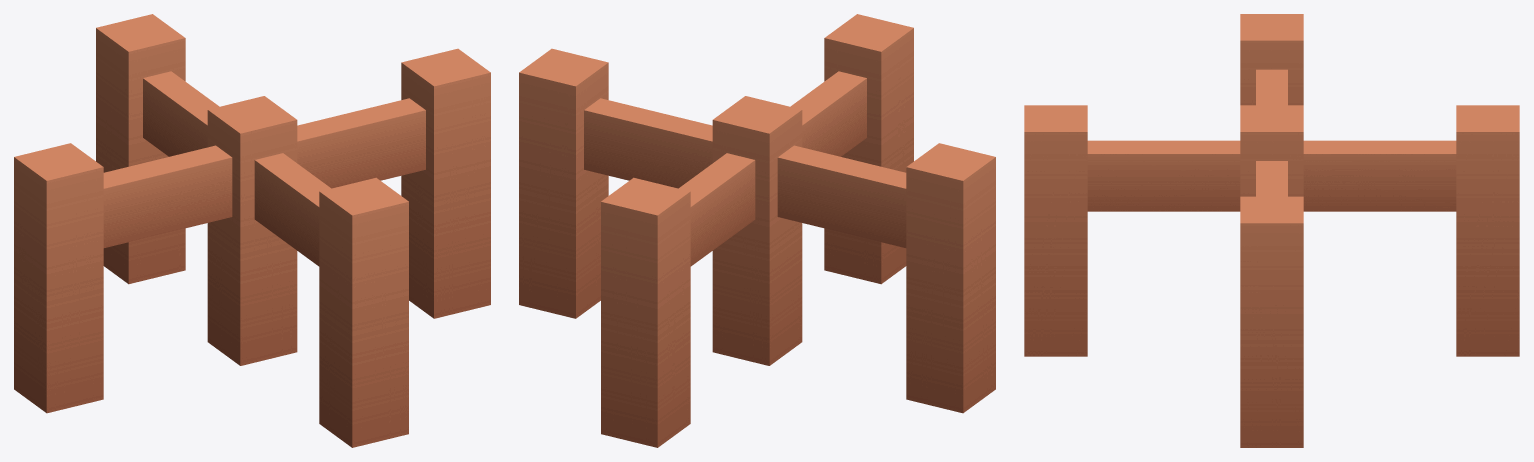
File: cross.glb
3 renders of one model, left to right at view 1: azimuth 30°, elevation 25°; view 2: azimuth 150°, elevation 25°; view 3: azimuth 270°, elevation 25°, orthographic. The views are drawn at different scales.
Visible parts, largest first — view 1: wood-structure-part.001; view 2: wood-structure-part.001; view 3: wood-structure-part.001.
Part boxes in pixels (left/top/right/bottom): wood-structure-part.001: left=14, top=14, right=490, bottom=447; wood-structure-part.001: left=519, top=14, right=995, bottom=447; wood-structure-part.001: left=1024, top=14, right=1519, bottom=447.
Size of the model in its own units: 1 by 0.5 by 1.
Materials: 1 (1 with a texture image).
